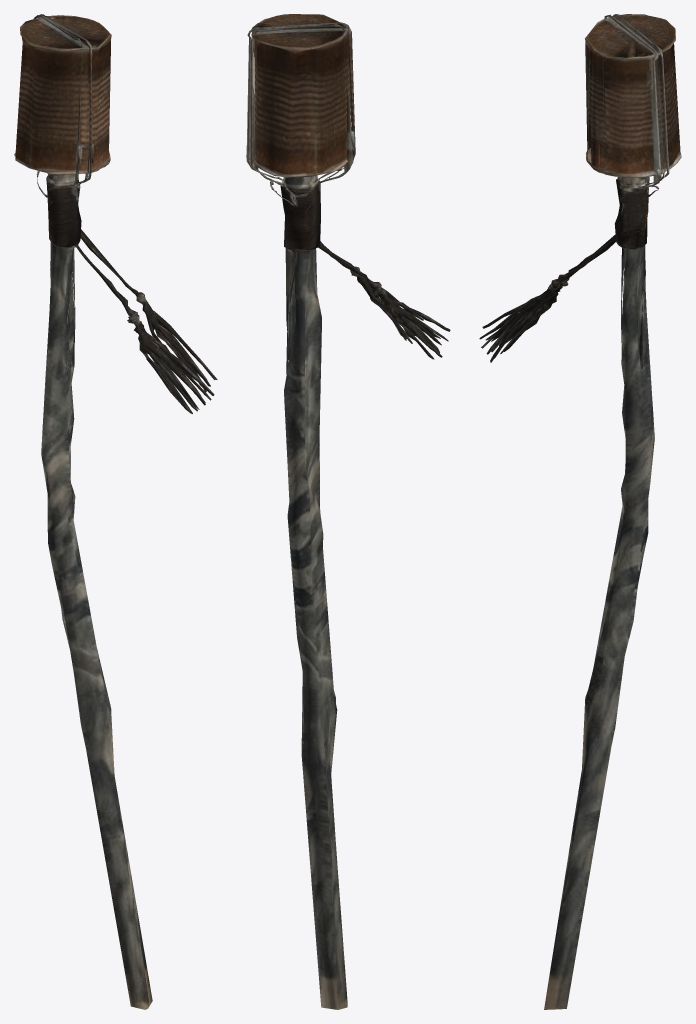
Rendered from boom.glb.
3 renders of one model, left to right at view 1: azimuth 90°, elevation 25°; view 2: azimuth 150°, elevation 25°; view 3: azimuth 270°, elevation 25°, orthographic. The views are drawn at different scales.
Visible parts, largest first — view 1: boom; view 2: boom; view 3: boom.
Part boxes in pixels (left/top/right/bottom): boom: left=14, top=14, right=217, bottom=1009; boom: left=246, top=14, right=450, bottom=1009; boom: left=479, top=14, right=681, bottom=1009.
Size of the model in its own units: 0.245 by 2 by 0.3752.
Materials: 1 (1 with a texture image).
